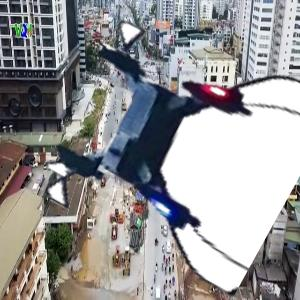drone: (52, 23, 300, 271)
